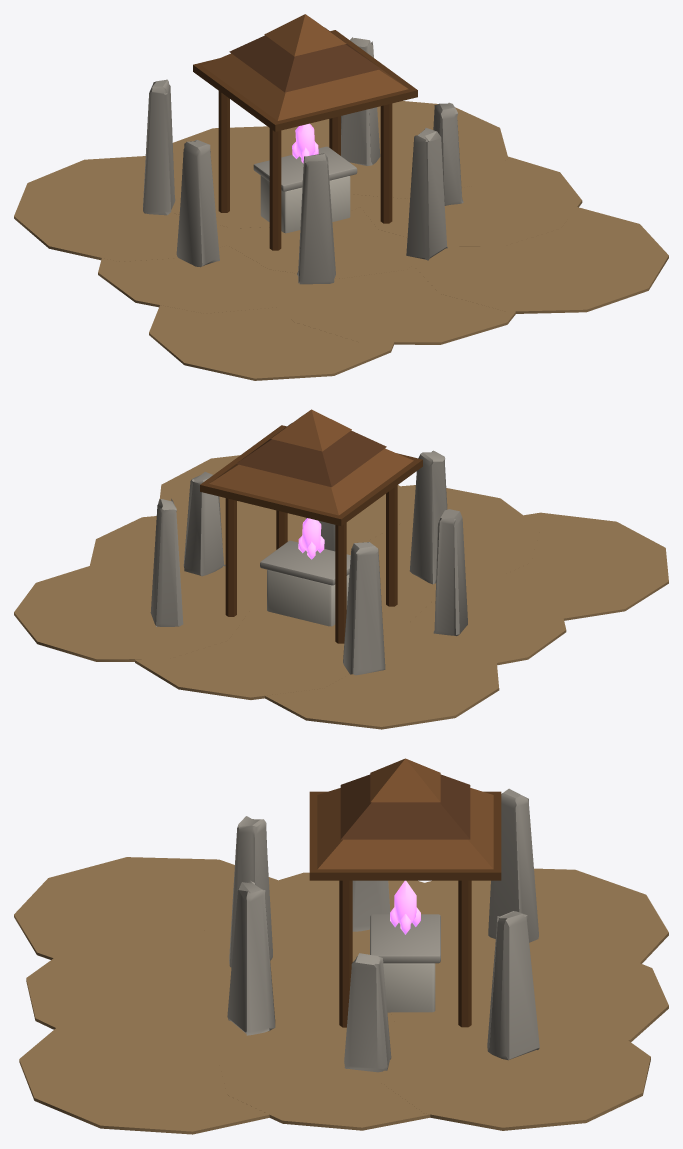
The model's file is budynek_fuzji_poz02.glb.
3 renders of one model, top to bottom at view 1: azimuth 30°, elevation 25°; view 2: azimuth 150°, elevation 25°; view 3: azimuth 270°, elevation 25°, orthographic. The views are drawn at different scales.
Parts seen in each view (by area): view 1: budynek_fuzji_poz02; view 2: budynek_fuzji_poz02; view 3: budynek_fuzji_poz02.
Boxes of the visible parts, x1=… form: budynek_fuzji_poz02: x1=14, y1=14, x2=668, y2=380; budynek_fuzji_poz02: x1=14, y1=409, x2=668, y2=729; budynek_fuzji_poz02: x1=14, y1=758, x2=668, y2=1134.
Size of the model in its own units: 8.73 by 3.57 by 8.8.
